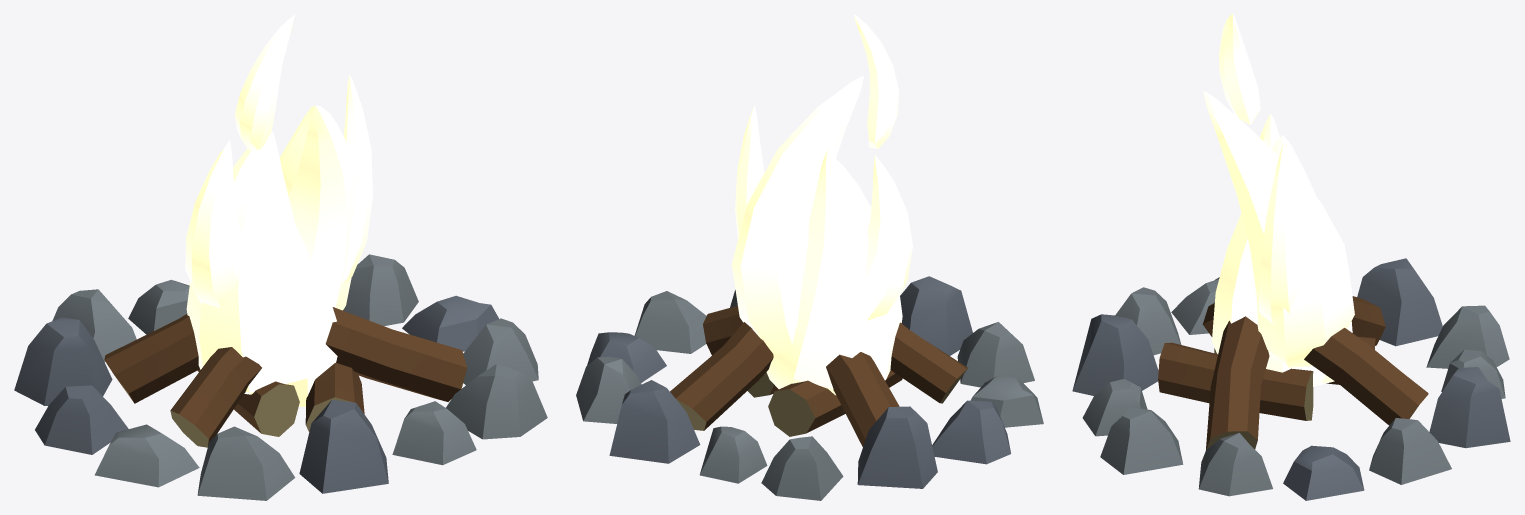
Rendered from bonfire_lit.631e6779.glb.
3 renders of one model, left to right at view 1: azimuth 30°, elevation 25°; view 2: azimuth 150°, elevation 25°; view 3: azimuth 270°, elevation 25°, orthographic. The views are drawn at different scales.
Parts seen in each view (by area): view 1: Bonfire_Lit_Cylinder.009; view 2: Bonfire_Lit_Cylinder.009; view 3: Bonfire_Lit_Cylinder.009.
Part boxes in pixels (left/top/right/bottom): Bonfire_Lit_Cylinder.009: left=14, top=14, right=547, bottom=500; Bonfire_Lit_Cylinder.009: left=576, top=14, right=1043, bottom=500; Bonfire_Lit_Cylinder.009: left=1072, top=14, right=1510, bottom=500.
Size of the model in its own units: 1.02 by 0.8821 by 0.906.
